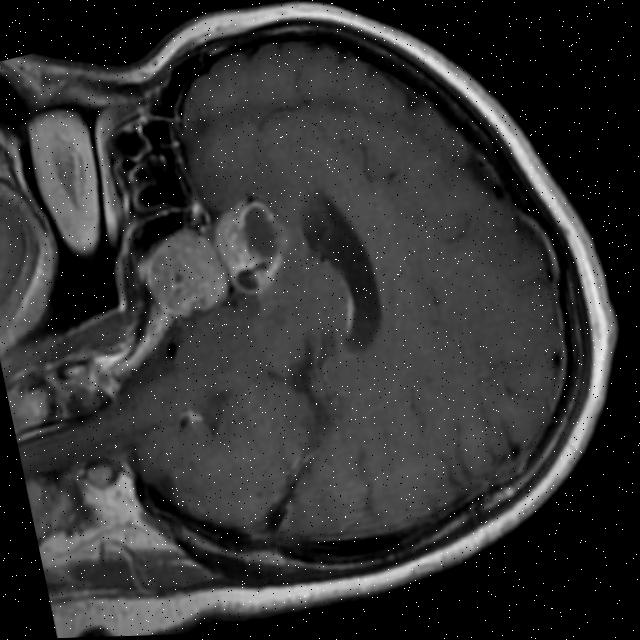Pituitary: (125, 195, 296, 328)
